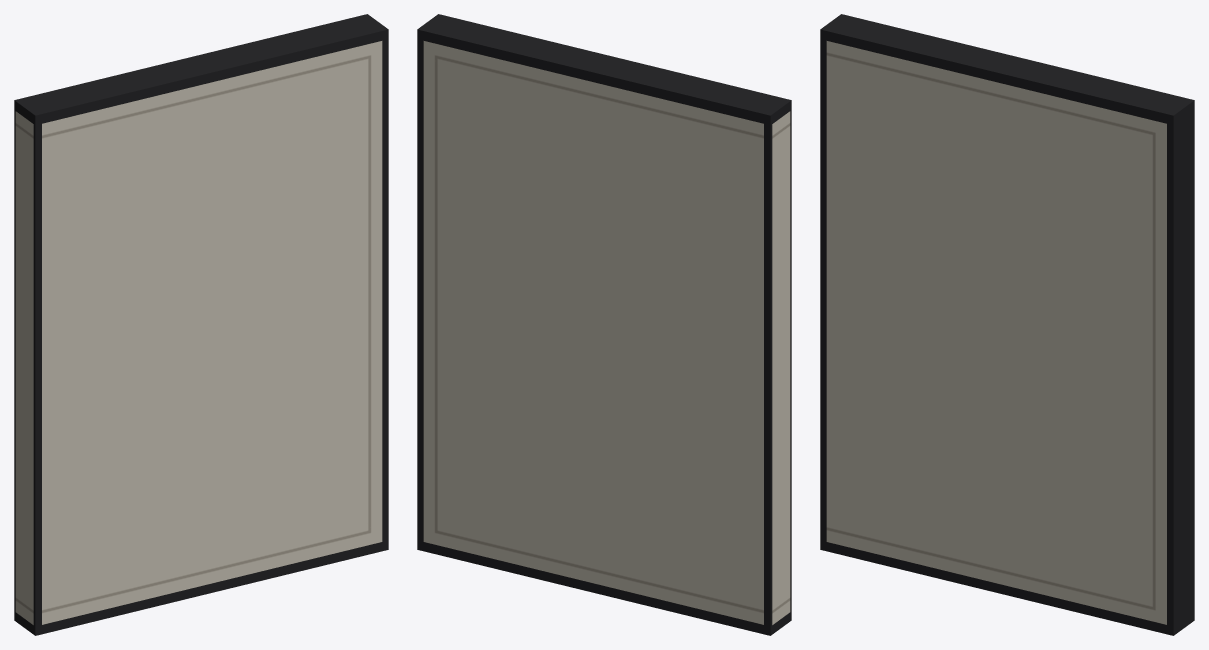
File: dvd_case.glb
The picture shows the model from 3 angles, left to right: view 1: azimuth 30°, elevation 25°; view 2: azimuth 150°, elevation 25°; view 3: azimuth 330°, elevation 25°; orthographic projection.
Parts seen in each view (by area): view 1: dvd_case; view 2: dvd_case; view 3: dvd_case.
Part boxes in pixels (bbox=[...]): dvd_case: bbox=[14, 14, 388, 635]; dvd_case: bbox=[417, 14, 791, 635]; dvd_case: bbox=[820, 14, 1194, 635].
Size of the model in its own units: 0.1351 by 0.19 by 0.0142.
Materials: 2 (1 with a texture image).
